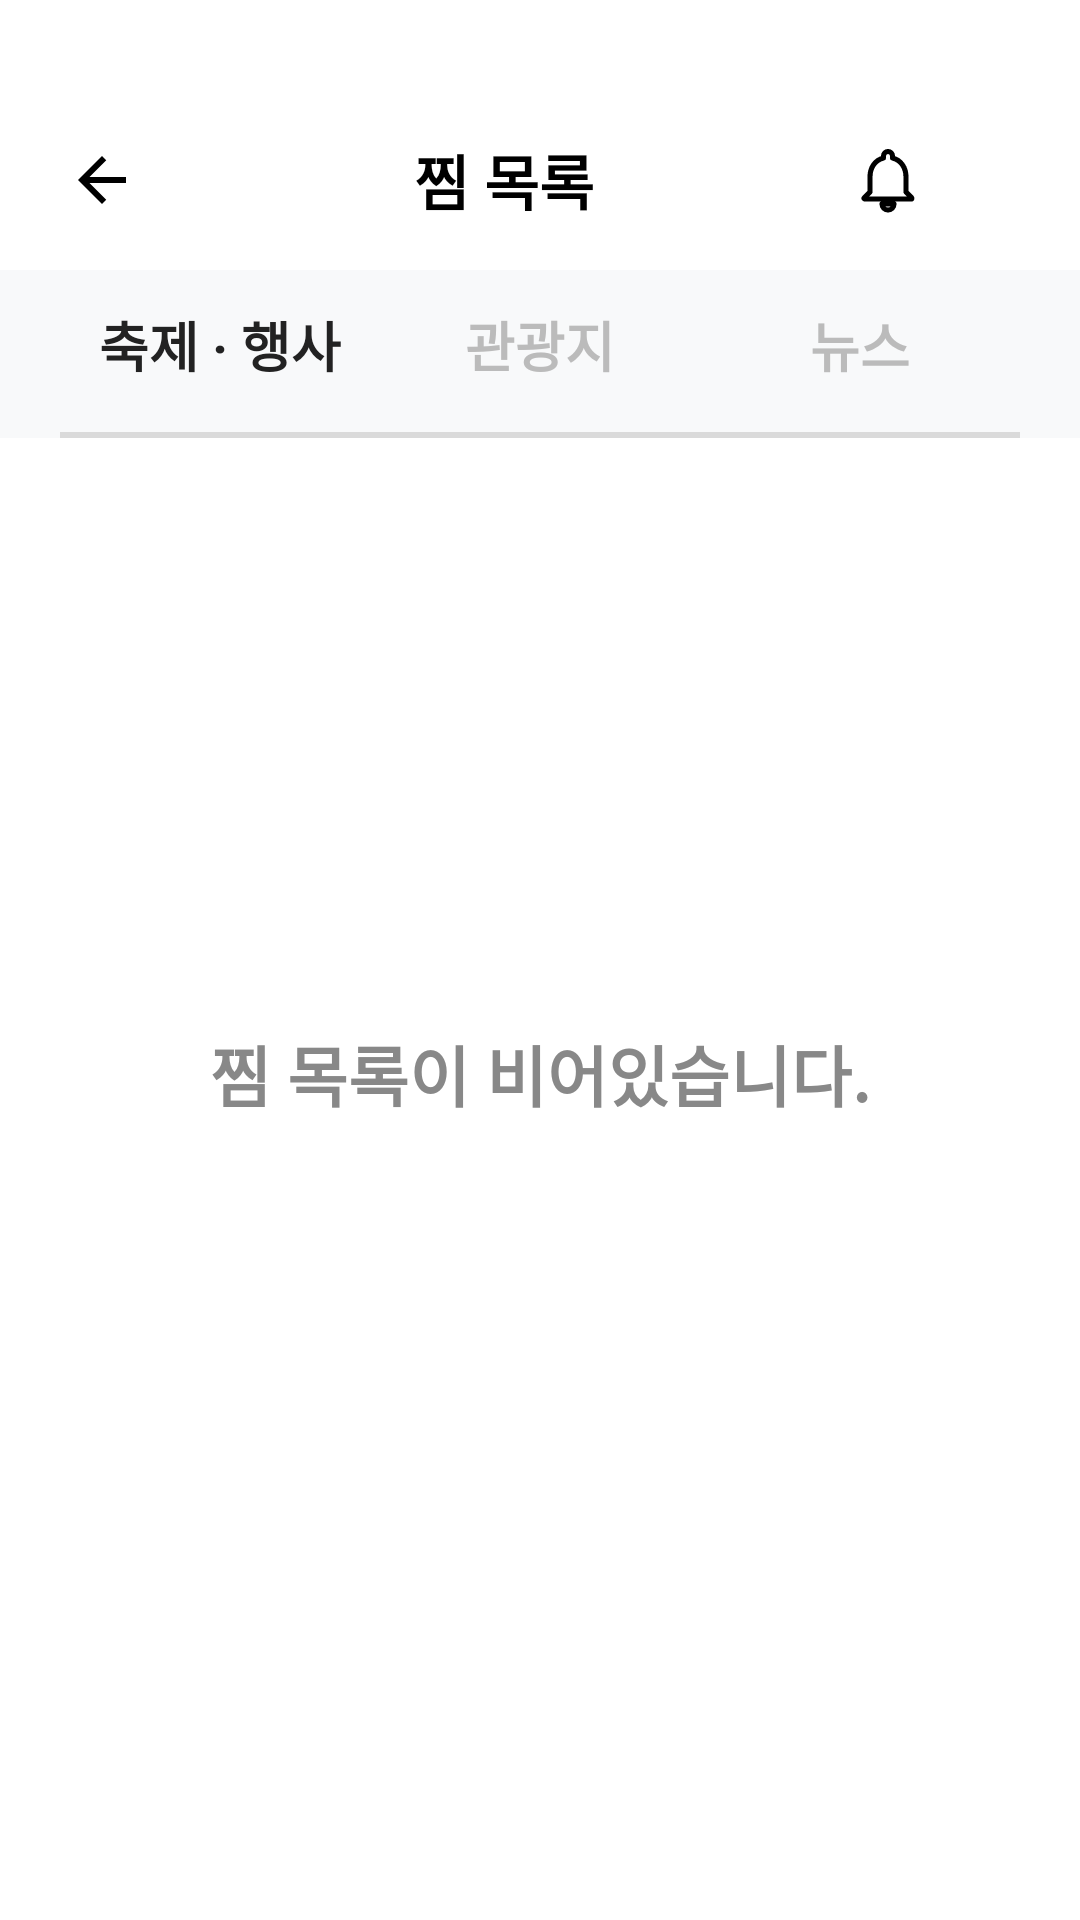

Named icons in this screenshot (1080 × 1920) and their centers, point (x, y):
notifications: point (888, 181)
뒤로가기: point (102, 180)
